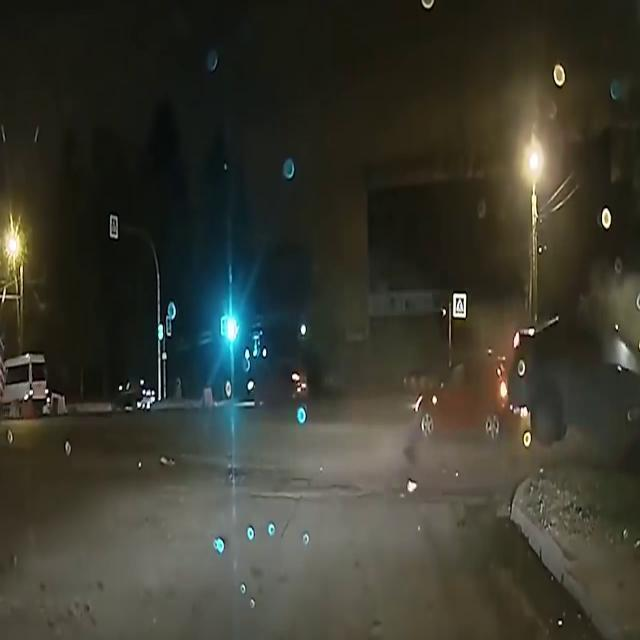accident: (412, 308, 640, 476)
